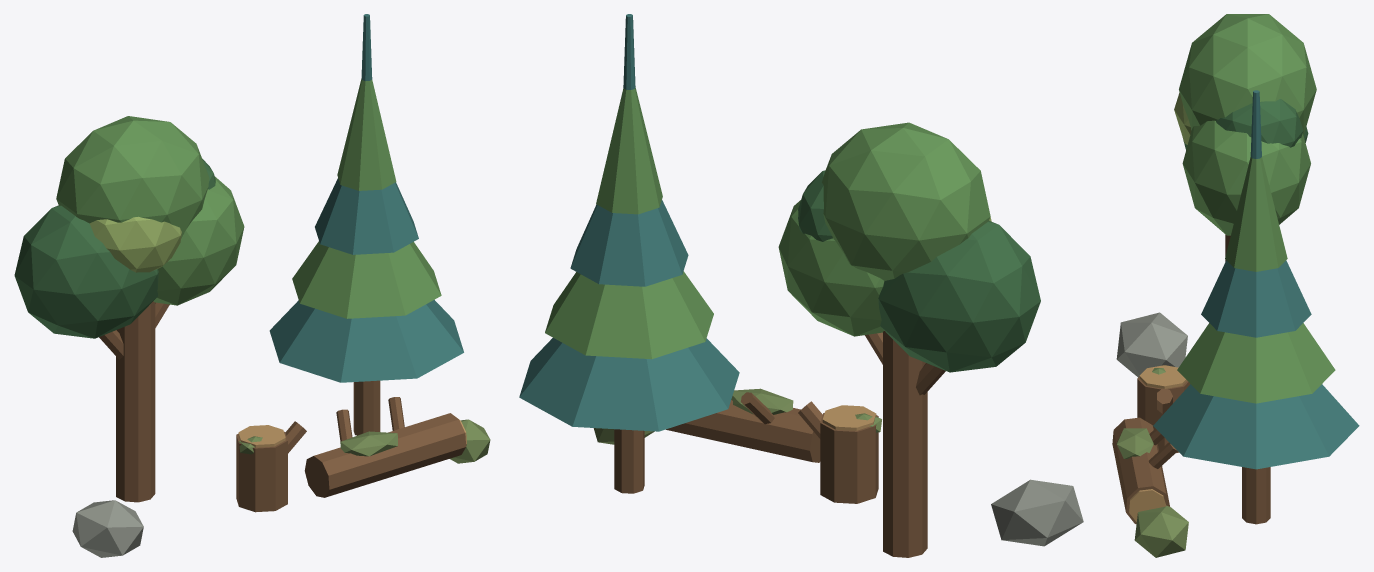
File: forest_edge_kit.glb
The picture shows the model from 3 angles, left to right: view 1: azimuth 30°, elevation 25°; view 2: azimuth 150°, elevation 25°; view 3: azimuth 270°, elevation 25°; orthographic projection. The views are drawn at different scales.
Visible parts, largest first — view 1: Oak canopy 02, Oak canopy 00, Layered spruce bough 00, Layered spruce bough 01, Oak trunk, Fallen log, Oak canopy 01, Layered spruce bough 02, Layered spruce bough 03, Oak canopy 03, Broken stump bark, Low-poly woodland boulder (+5 smaller); view 2: Oak canopy 02, Oak canopy 00, Layered spruce bough 00, Layered spruce bough 01, Oak trunk, Oak canopy 01, Layered spruce bough 02, Layered spruce bough 03, Fallen log, Low-poly woodland boulder, Broken stump bark, Pine trunk (+4 smaller); view 3: Layered spruce bough 00, Oak canopy 02, Layered spruce bough 01, Oak canopy 01, Layered spruce bough 02, Layered spruce bough 03, Low-poly woodland boulder, Fallen log, Oak canopy 04, Low-poly woodland boulder.001, Pine trunk, Broken stump bark (+7 smaller).
Part boxes in pixels (x1=…): Oak canopy 02: x1=56, y1=116, x2=209, y2=237; Oak canopy 00: x1=14, y1=205, x2=158, y2=338; Layered spruce bough 00: x1=269, y1=300, x2=463, y2=382; Layered spruce bough 01: x1=292, y1=241, x2=441, y2=318; Oak trunk: x1=116, y1=301, x2=155, y2=502; Fallen log: x1=304, y1=413, x2=466, y2=497; Oak canopy 01: x1=153, y1=176, x2=244, y2=305; Layered spruce bough 02: x1=315, y1=178, x2=418, y2=254; Layered spruce bough 03: x1=337, y1=78, x2=396, y2=190; Oak canopy 03: x1=89, y1=216, x2=181, y2=272; Broken stump bark: x1=236, y1=431, x2=287, y2=512; Low-poly woodland boulder: x1=72, y1=500, x2=143, y2=557; Oak canopy 02: x1=822, y1=122, x2=990, y2=280; Oak canopy 00: x1=878, y1=220, x2=1040, y2=372; Layered spruce bough 00: x1=519, y1=338, x2=739, y2=431; Layered spruce bough 01: x1=545, y1=271, x2=713, y2=359; Oak trunk: x1=883, y1=331, x2=927, y2=557; Oak canopy 01: x1=778, y1=200, x2=884, y2=336; Layered spruce bough 02: x1=570, y1=200, x2=688, y2=286; Layered spruce bough 03: x1=596, y1=87, x2=662, y2=214; Fallen log: x1=666, y1=400, x2=820, y2=462; Low-poly woodland boulder: x1=991, y1=479, x2=1083, y2=546; Broken stump bark: x1=820, y1=413, x2=878, y2=503; Pine trunk: x1=614, y1=429, x2=644, y2=493; Layered spruce bough 00: x1=1153, y1=384, x2=1359, y2=469; Oak canopy 02: x1=1179, y1=14, x2=1316, y2=135; Layered spruce bough 01: x1=1177, y1=323, x2=1335, y2=403; Oak canopy 01: x1=1182, y1=120, x2=1310, y2=235; Layered spruce bough 02: x1=1201, y1=260, x2=1311, y2=337; Layered spruce bough 03: x1=1225, y1=157, x2=1287, y2=271; Low-poly woodland boulder: x1=1116, y1=312, x2=1187, y2=377; Fallen log: x1=1112, y1=417, x2=1169, y2=524; Oak canopy 04: x1=1216, y1=99, x2=1303, y2=147; Low-poly woodland boulder.001: x1=1134, y1=505, x2=1188, y2=557; Pine trunk: x1=1242, y1=467, x2=1270, y2=524; Broken stump bark: x1=1137, y1=376, x2=1189, y2=452.
Size of the model in its own units: 5.45 by 5.12 by 2.61.
